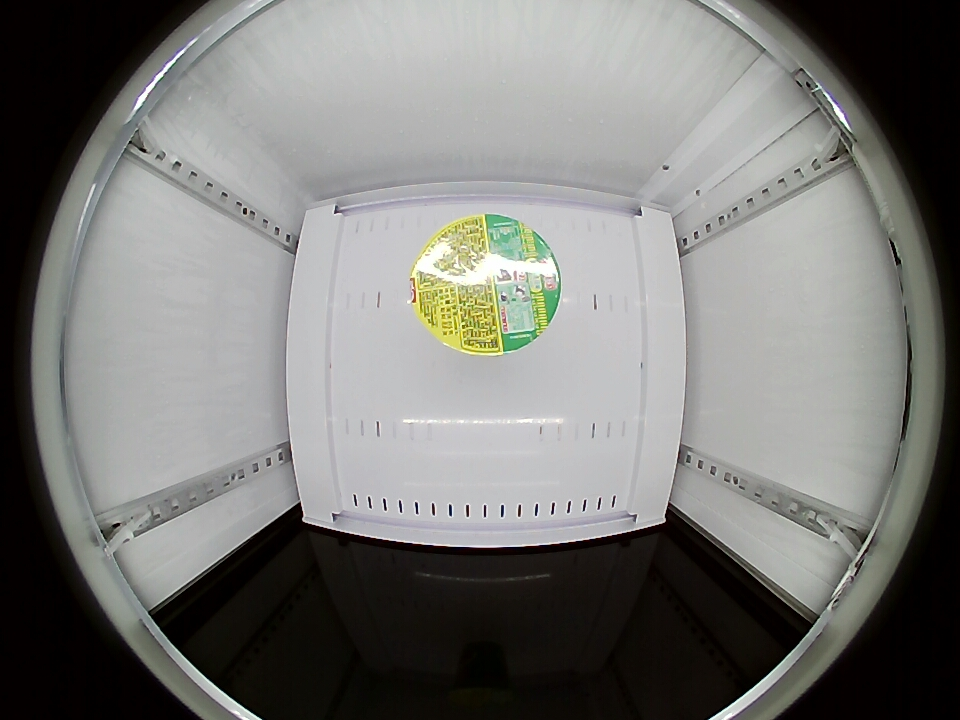heweidao2: (410, 214, 561, 356)
